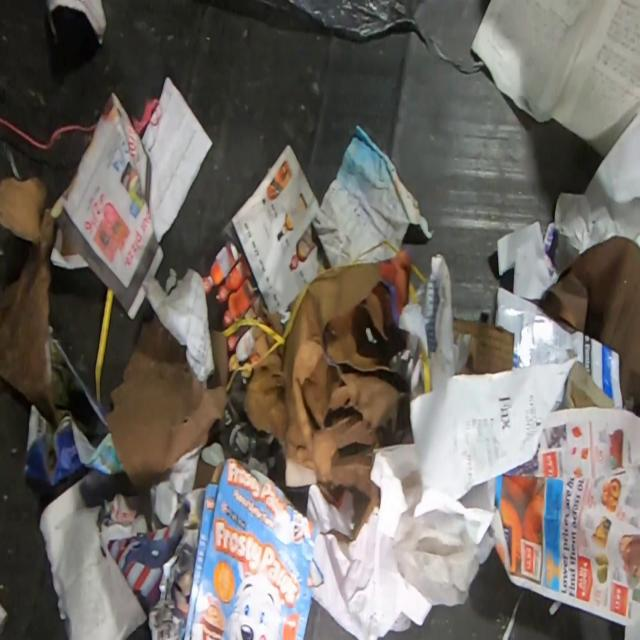cardboard: (182, 456, 326, 640), (494, 286, 624, 409), (0, 173, 60, 428), (306, 263, 380, 332), (452, 314, 514, 375), (558, 361, 613, 409)
soft_plastic: (259, 0, 486, 75), (378, 509, 497, 608)
